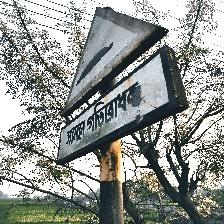Speed-breaker: (54, 10, 192, 160)
